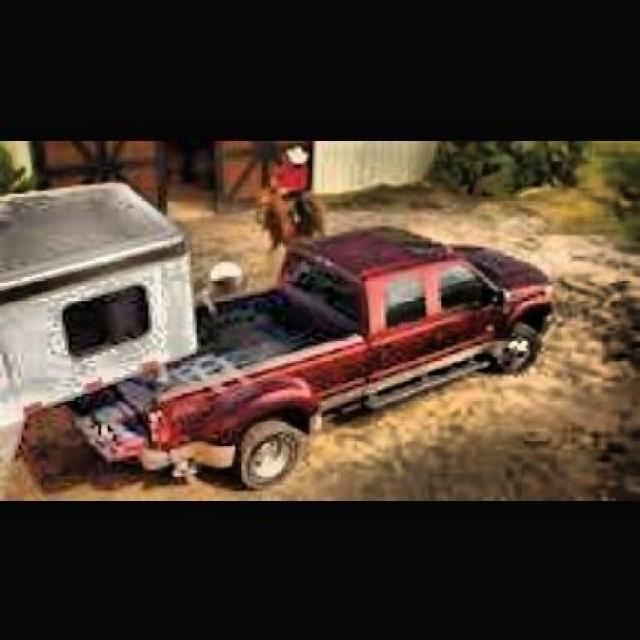maroon: (154, 190, 504, 464)
